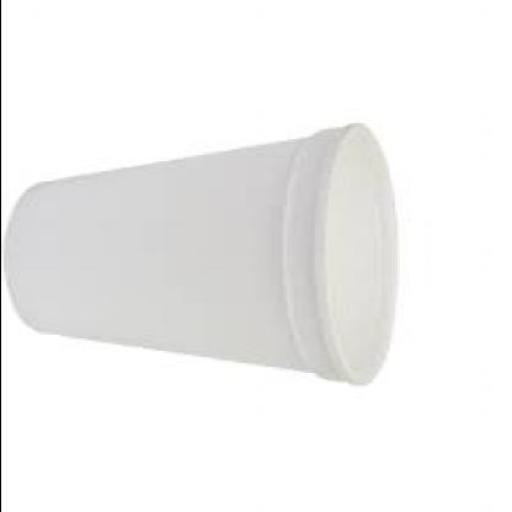paper: (7, 127, 399, 389)
